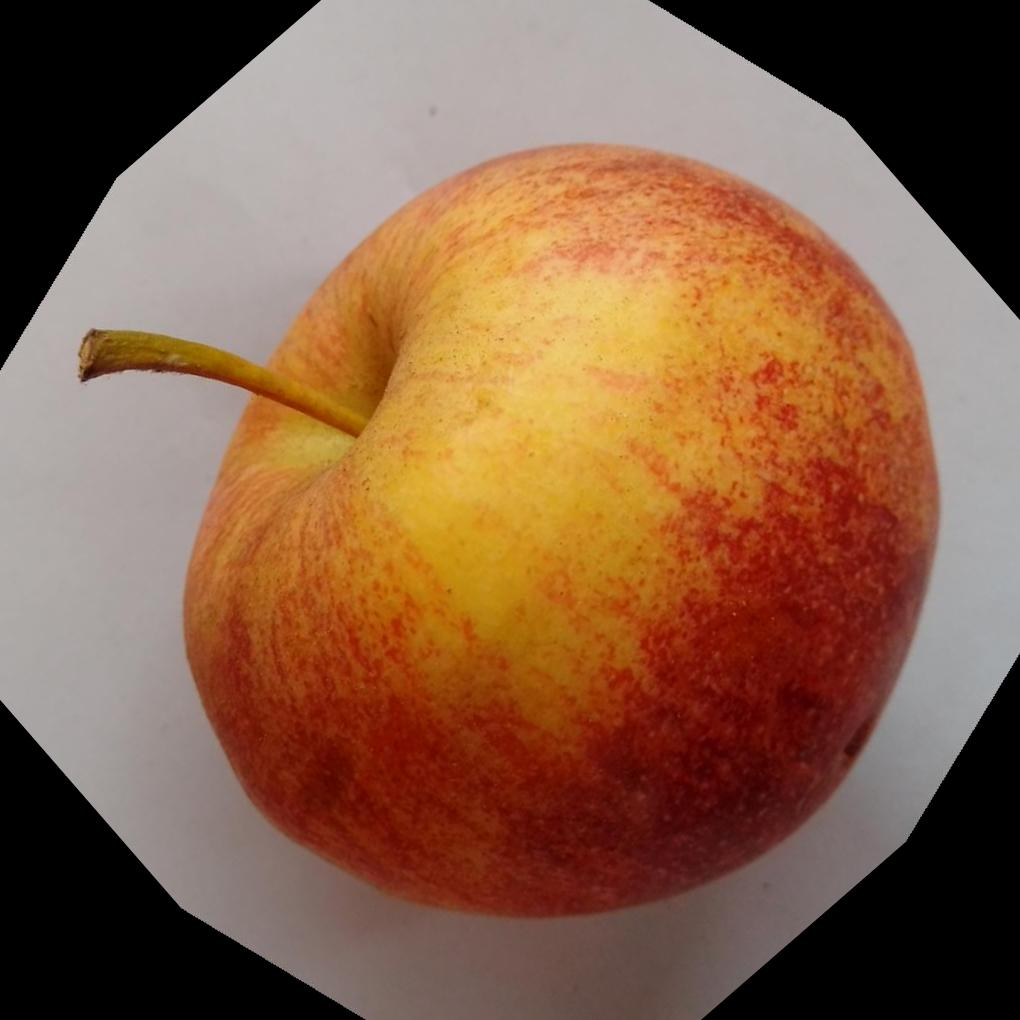FreshGuava: (72, 136, 942, 918)
